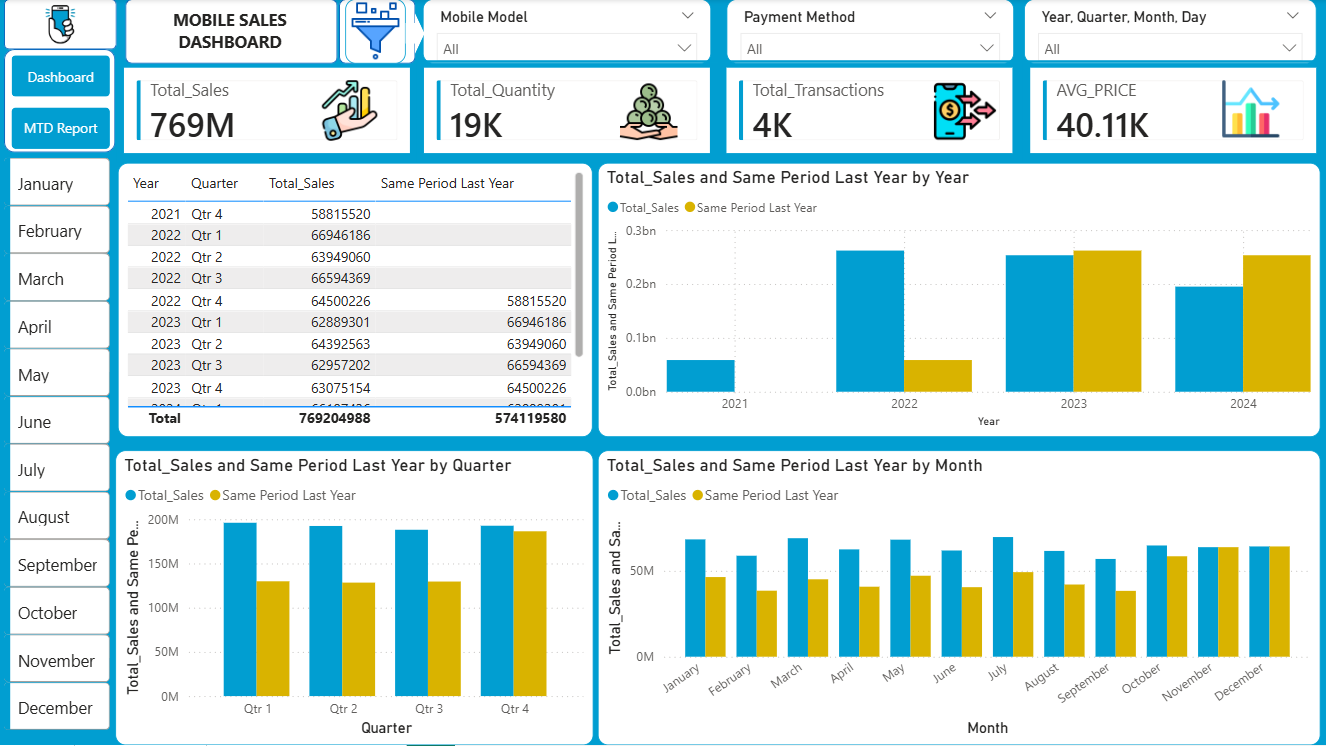

This screenshot's page, from the dashboard's own definition file:
{"tool":"powerbi","page":{"name":"Same Period Last Year","canvas":[1280,720],"ordinal":2},"visuals":[{"type":"shape","box":[5,0,108.8,48.8],"z":0},{"type":"image","box":[5,0,108.8,48.8],"z":1000},{"type":"shape","box":[5,48.8,107.5,100],"z":2000},{"type":"cardVisual","fields":{"Data":["Sales_Data.Total_Sales"]},"box":[113.8,58.8,292.5,98.8],"z":3000},{"type":"image","box":[290,78.8,97.5,58.8],"z":4000},{"type":"slicer","fields":{"Values":["Sales_Data.Mobile Model"]},"box":[408.8,0,278.8,62.5],"z":5000},{"type":"slicer","fields":{"Values":["Sales_Data.Payment Method"]},"box":[702.5,0,277.5,62.5],"z":6000},{"type":"slicer","fields":{"Values":["Custom_Calender.Date.Variation.Date Hierarchy.Year","Custom_Calender.Date.Variation.Date Hierarchy.Quarter","Custom_Calender.Date.Variation.Date Hierarchy.Month","Custom_Calender.Date.Variation.Date Hierarchy.Day"]},"box":[988.8,0,282.5,62.5],"z":7000},{"type":"cardVisual","fields":{"Data":["Sales_Data.Total_Quantity"]},"box":[402.5,58.8,292.5,98.8],"z":8000},{"type":"cardVisual","fields":{"Data":["Sales_Data.Total_Transactions"]},"box":[695,58.8,292.5,98.8],"z":9000},{"type":"cardVisual","fields":{"Data":["Sales_Data.AVG_PRICE"]},"box":[987.5,58.8,292.5,98.8],"z":10000},{"type":"image","box":[583.8,80,86.2,58.8],"z":11000},{"type":"image","box":[890,78.8,83.8,60],"z":12000},{"type":"image","box":[1158.8,78.8,100,55],"z":13000},{"type":"shape","box":[328.8,0,73.8,62.5],"z":14000},{"type":"image","box":[333.8,0,58.8,62.5],"z":15000},{"type":"shape","box":[392.5,13.8,18.8,40],"z":16000},{"type":"shape","box":[121.2,0,205,62.5],"z":17000},{"type":"textbox","box":[131.2,3.8,182.5,55],"z":18000},{"type":"advancedSlicerVisual","fields":{"Values":["Custom_Calender.Date.Variation.Date Hierarchy.Month"]},"box":[0,148.8,112.5,571.2],"z":19000},{"type":"tableEx","fields":{"Values":["Custom_Calender.Date.Variation.Date Hierarchy.Year","Custom_Calender.Date.Variation.Date Hierarchy.Quarter","Sales_Data.Total_Sales","Sales_Data.Same Period Last Year"]},"box":[115,157.5,458.8,265],"z":20000},{"type":"clusteredColumnChart","fields":{"Category":["Custom_Calender.Date.Variation.Date Hierarchy.Year","Custom_Calender.Date.Variation.Date Hierarchy.Quarter"],"Y":["Sales_Data.Total_Sales","Sales_Data.Same Period Last Year"]},"box":[577.5,157.5,697.5,265],"z":21000},{"type":"clusteredColumnChart","fields":{"Category":["Custom_Calender.Date.Variation.Date Hierarchy.Year","Custom_Calender.Date.Variation.Date Hierarchy.Quarter"],"Y":["Sales_Data.Total_Sales","Sales_Data.Same Period Last Year"]},"box":[112.5,435,461.2,285],"z":22000},{"type":"clusteredColumnChart","fields":{"Y":["Sales_Data.Total_Sales","Sales_Data.Same Period Last Year"],"Category":["Custom_Calender.Date.Variation.Date Hierarchy.Year","Custom_Calender.Date.Variation.Date Hierarchy.Quarter","Custom_Calender.Date.Variation.Date Hierarchy.Month","Custom_Calender.Date.Variation.Date Hierarchy.Day"]},"box":[577.5,435,697.5,285],"z":23000},{"type":"pageNavigator","box":[12.5,53.8,95,90],"z":24000}]}

Visuals, with their boxes in screenshot pixels (x1, y1, x2, y2), scaled from the page's 1280x720 canvas onto the 1326x746 screenshot:
shape: (5,0,118,51)
image: (5,0,118,51)
shape: (5,51,117,154)
cardVisual - Sales_Data.Total_Sales: (118,61,421,163)
image: (300,82,401,143)
slicer - Sales_Data.Mobile Model: (423,0,712,65)
slicer - Sales_Data.Payment Method: (728,0,1015,65)
slicer - Custom_Calender.Date.Variation.Date Hierarchy.Year x Custom_Calender.Date.Variation.Date Hierarchy.Quarter: (1024,0,1317,65)
cardVisual - Sales_Data.Total_Quantity: (417,61,720,163)
cardVisual - Sales_Data.Total_Transactions: (720,61,1023,163)
cardVisual - Sales_Data.AVG_PRICE: (1023,61,1325,163)
image: (605,83,694,144)
image: (922,82,1009,144)
image: (1200,82,1304,139)
shape: (341,0,417,65)
image: (346,0,407,65)
shape: (407,14,426,56)
shape: (126,0,338,65)
textbox: (136,4,325,61)
advancedSlicerVisual - Custom_Calender.Date.Variation.Date Hierarchy.Month: (0,154,117,745)
tableEx - Custom_Calender.Date.Variation.Date Hierarchy.Year x Custom_Calender.Date.Variation.Date Hierarchy.Quarter: (119,163,594,438)
clusteredColumnChart - Custom_Calender.Date.Variation.Date Hierarchy.Year x Custom_Calender.Date.Variation.Date Hierarchy.Quarter: (598,163,1321,438)
clusteredColumnChart - Custom_Calender.Date.Variation.Date Hierarchy.Year x Custom_Calender.Date.Variation.Date Hierarchy.Quarter: (117,451,594,745)
clusteredColumnChart - Sales_Data.Total_Sales x Sales_Data.Same Period Last Year: (598,451,1321,745)
pageNavigator: (13,56,111,149)
